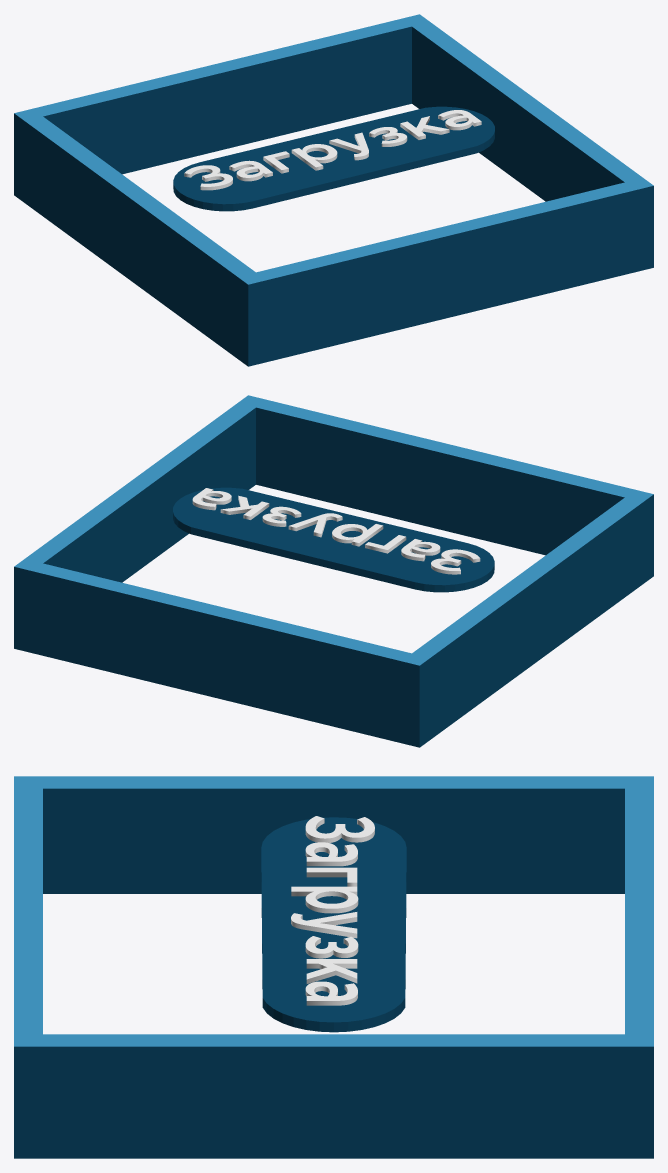
File: loading.gltf
3 views of the same model, one above another, from view 1: azimuth 30°, elevation 25°; view 2: azimuth 150°, elevation 25°; view 3: azimuth 270°, elevation 25° (orthographic). The views are drawn at different scales.
Parts seen in each view (by area): view 1: Border, Circle, Text_Model; view 2: Border, Circle, Text_Model; view 3: Border, Circle, Text_Model.
Boxes of the visible parts, x1,y1,x2,y2 form: Border: [14, 14, 653, 366]; Circle: [173, 106, 494, 211]; Text_Model: [184, 110, 481, 190]; Border: [14, 395, 653, 747]; Circle: [173, 487, 494, 592]; Text_Model: [192, 488, 480, 574]; Border: [14, 776, 653, 1158]; Circle: [261, 817, 406, 1032]; Text_Model: [291, 816, 374, 1005].
Size of the model in its own units: 2.2 by 0.434 by 2.2.
